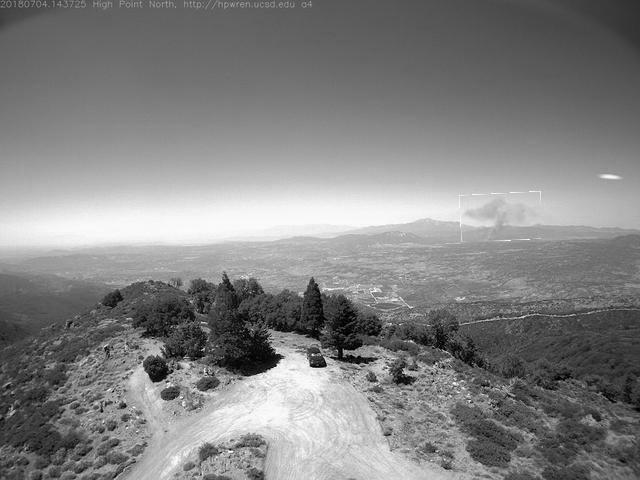smoke: (461, 193, 543, 242)
